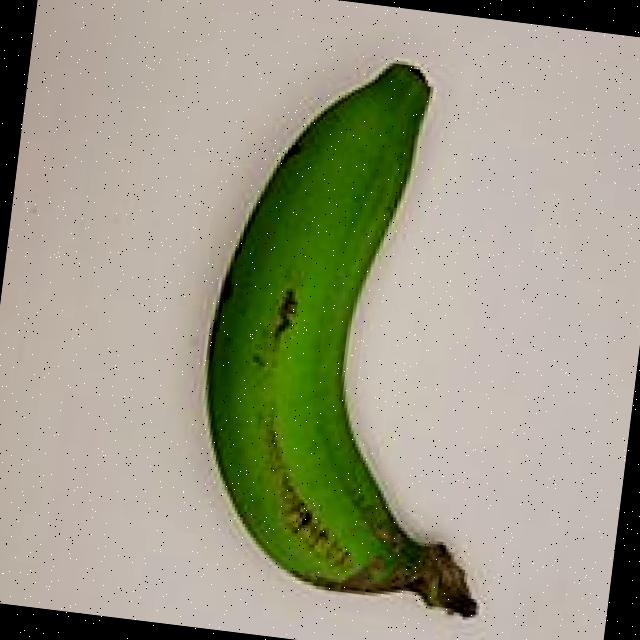Raw: (117, 15, 570, 640)
